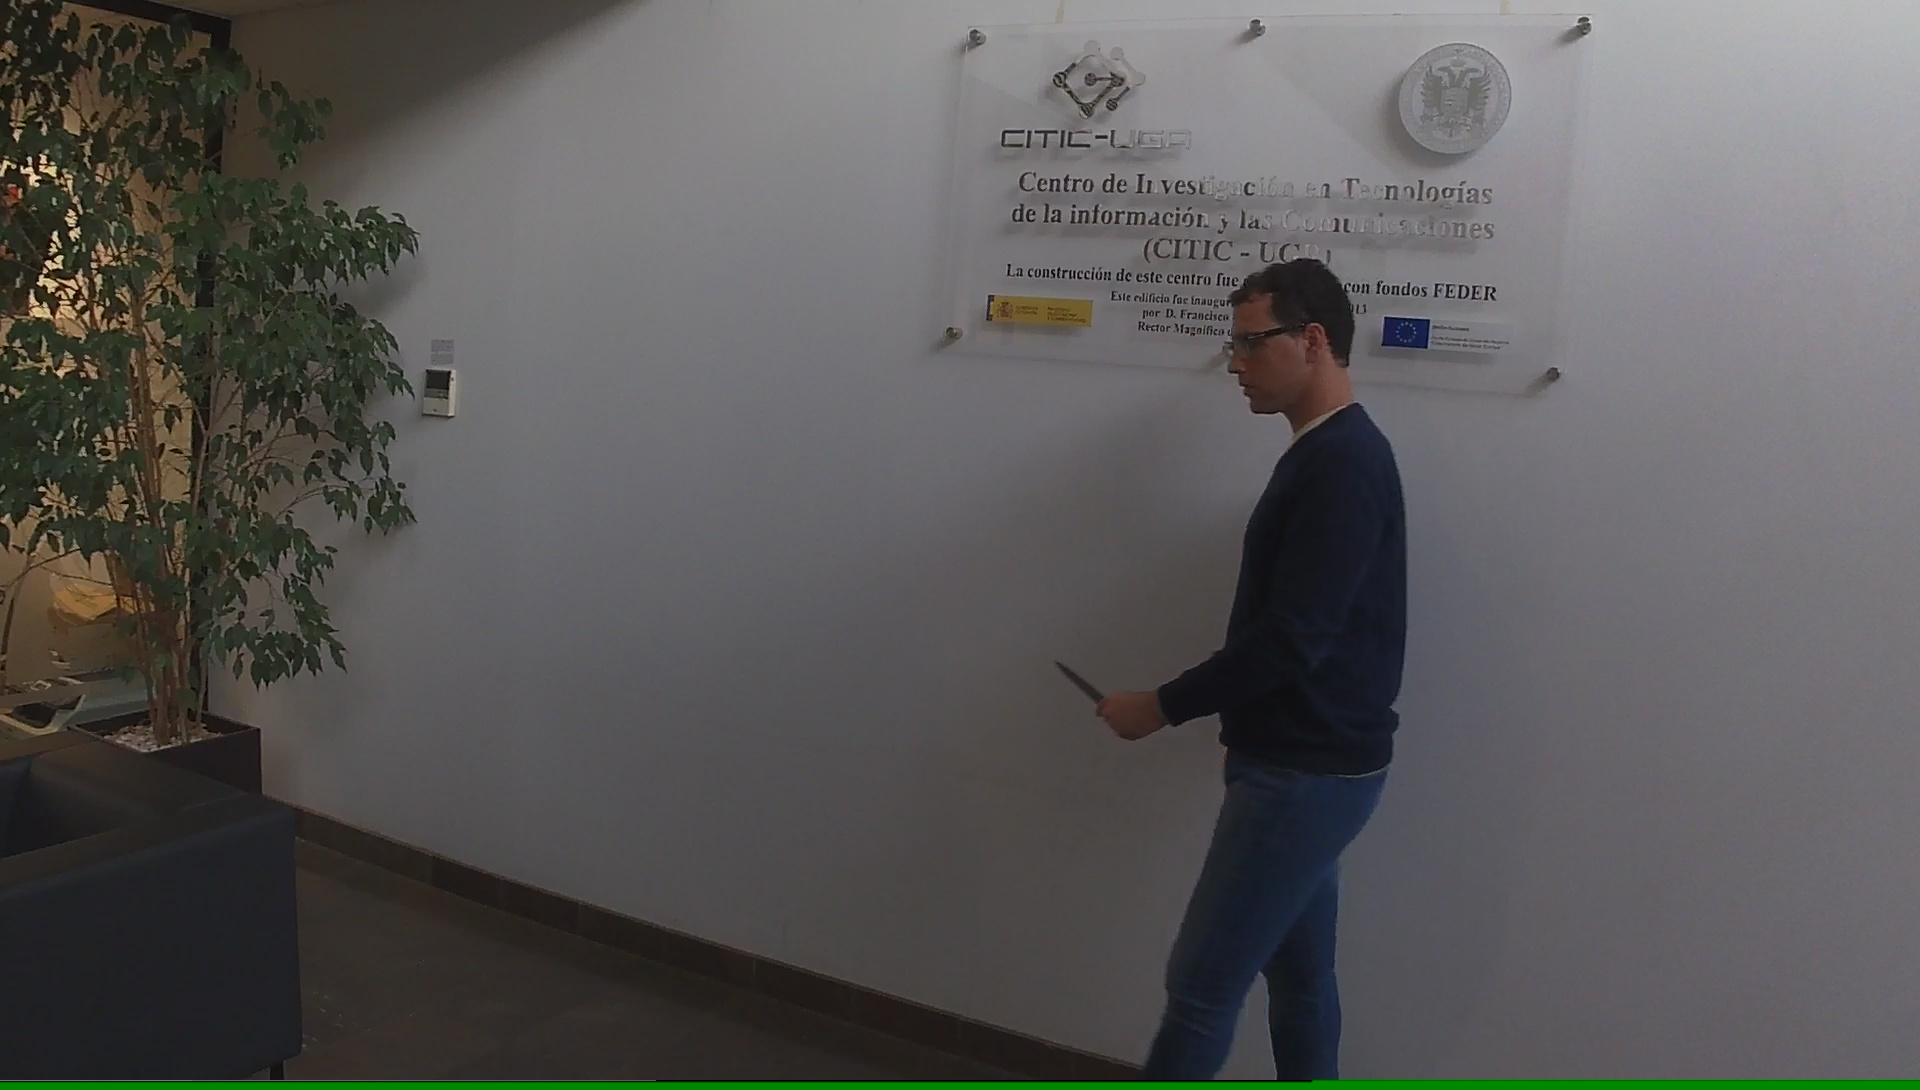knife: (1044, 652, 1127, 728)
